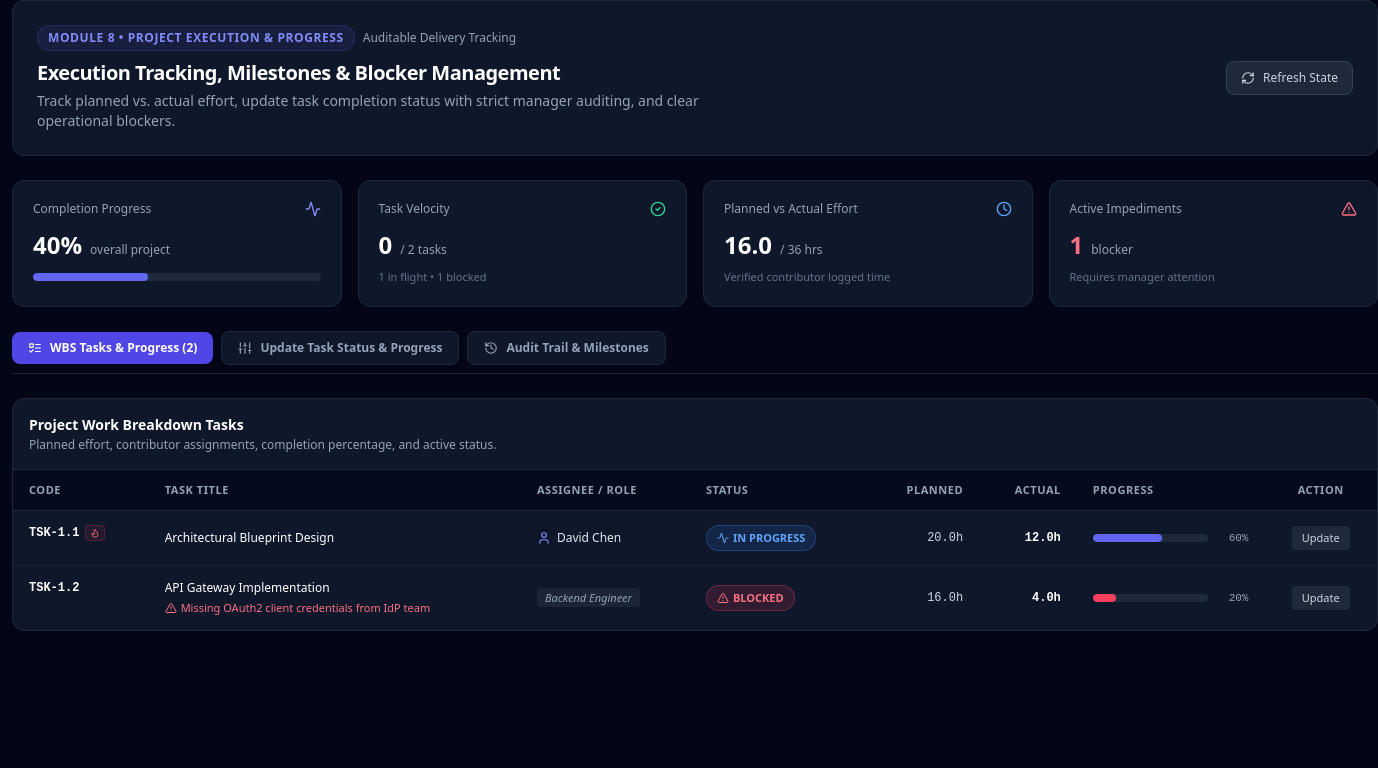
ExecutionView Component › renders audit trail subtab with past updates and milestones
Click the button "Audit Trail & Milestones". click: (567, 348)
box: [468, 330, 666, 364]
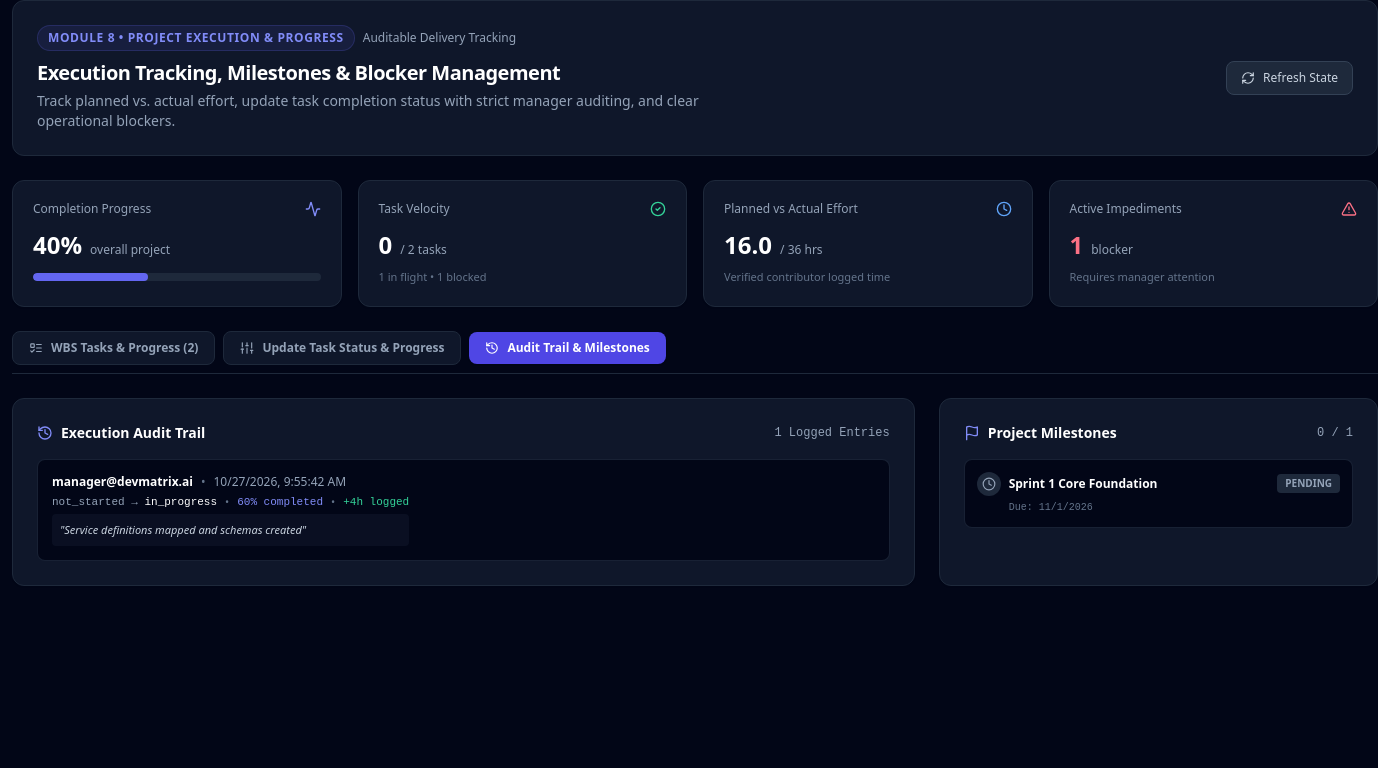
Check: the heading "Execution Audit Trail" is shown, box [61, 422, 205, 442]
Check: the text "manager@devmatrix.ai" is shown, box [52, 474, 193, 490]
Check: the text "\"Service definitions mapped and schemas created\"" is shown, box [52, 514, 409, 546]
